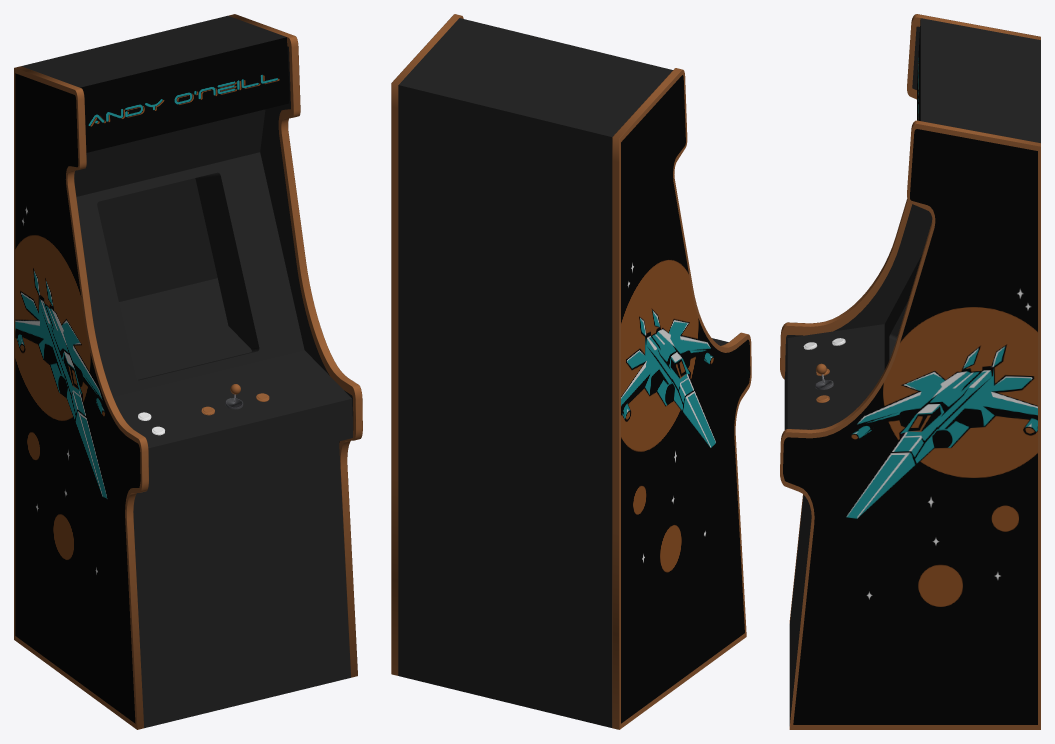
The model's file is arcade_machine_final.glb.
3 renders of one model, left to right at view 1: azimuth 30°, elevation 25°; view 2: azimuth 150°, elevation 25°; view 3: azimuth 270°, elevation 25°, orthographic. The views are drawn at different scales.
Parts seen in each view (by area): view 1: Cube.001, Cube.002, Cube, Cube.004; view 2: Cube.002, Cube.001, Cube, Cube.004; view 3: Cube.004, Cube.002, Cube.001, Cube.
Part boxes in pixels (left/top/right/bottom): Cube.001: left=113, top=278, right=352, bottom=727; Cube.002: left=21, top=15, right=304, bottom=396; Cube: left=14, top=66, right=148, bottom=729; Cube.004: left=228, top=14, right=362, bottom=677; Cube.002: left=398, top=18, right=672, bottom=431; Cube.001: left=398, top=338, right=728, bottom=727; Cube: left=612, top=68, right=751, bottom=729; Cube.004: left=391, top=14, right=463, bottom=675; Cube.004: left=780, top=120, right=1040, bottom=729; Cube.002: left=884, top=18, right=1040, bottom=369; Cube.001: left=784, top=324, right=884, bottom=725; Cube: left=780, top=14, right=1040, bottom=623.
Size of the model in its own units: 4.32 by 11.1 by 4.33.
Materials: 11 (7 with a texture image).
